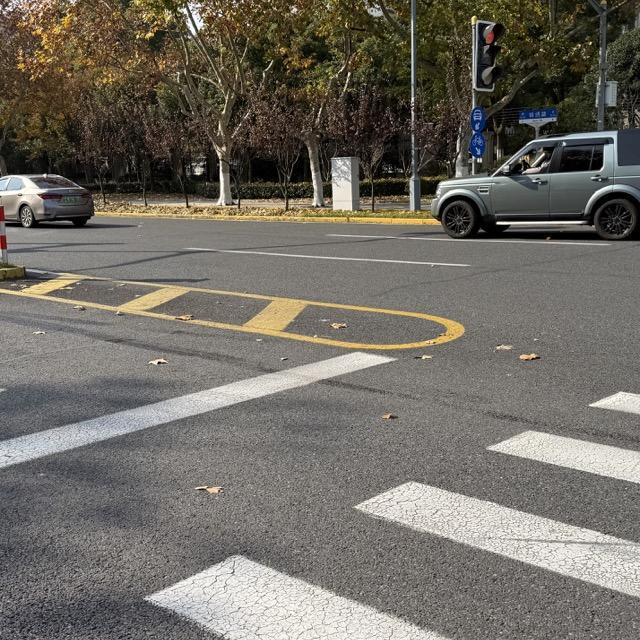curb: (101, 213, 437, 223)
